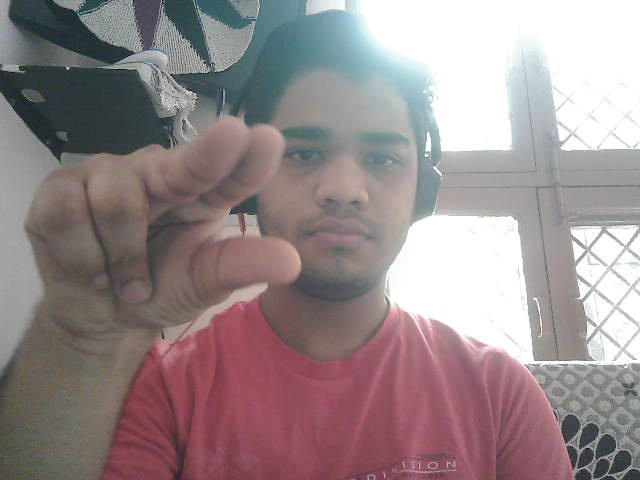No: (24, 114, 304, 328)
